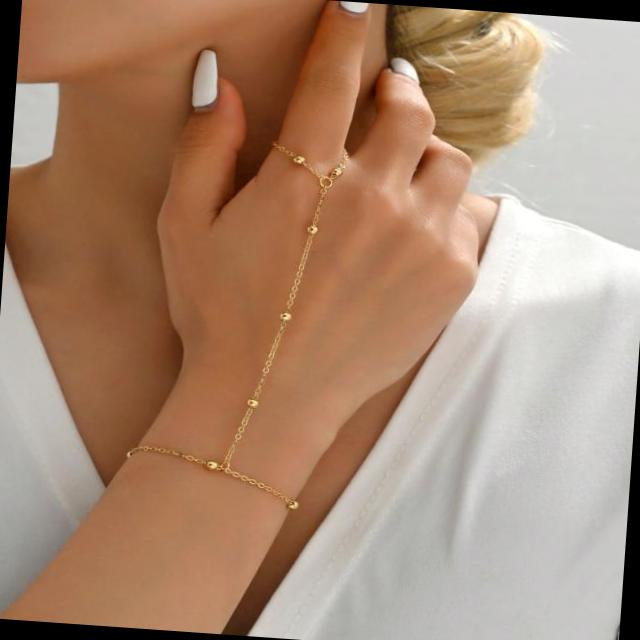Nail: (192, 51, 216, 108), (390, 59, 418, 84), (338, 2, 368, 13)
